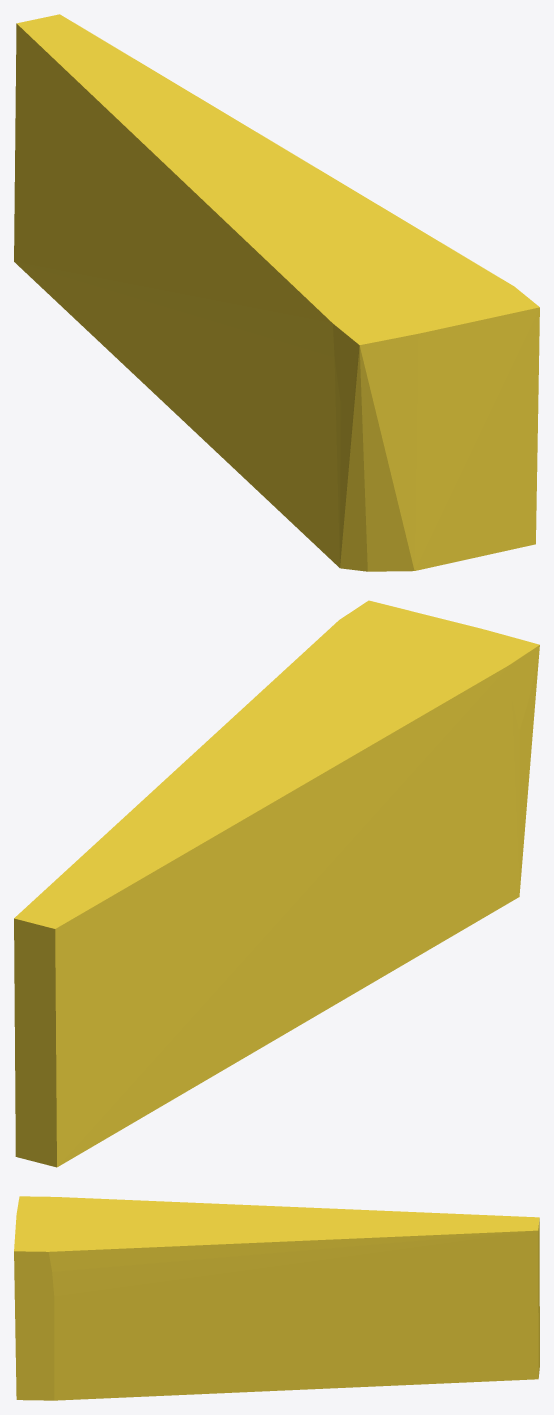
File: converted_Downdraft_Assy_collision_78_ffe13fff.obj
The picture shows the model from 3 angles, top to bottom: view 1: azimuth 30°, elevation 25°; view 2: azimuth 150°, elevation 25°; view 3: azimuth 270°, elevation 25°; orthographic projection. The views are drawn at different scales.
Bounding box in the file's own units: 0.0728 × 0.0942 × 0.297.
